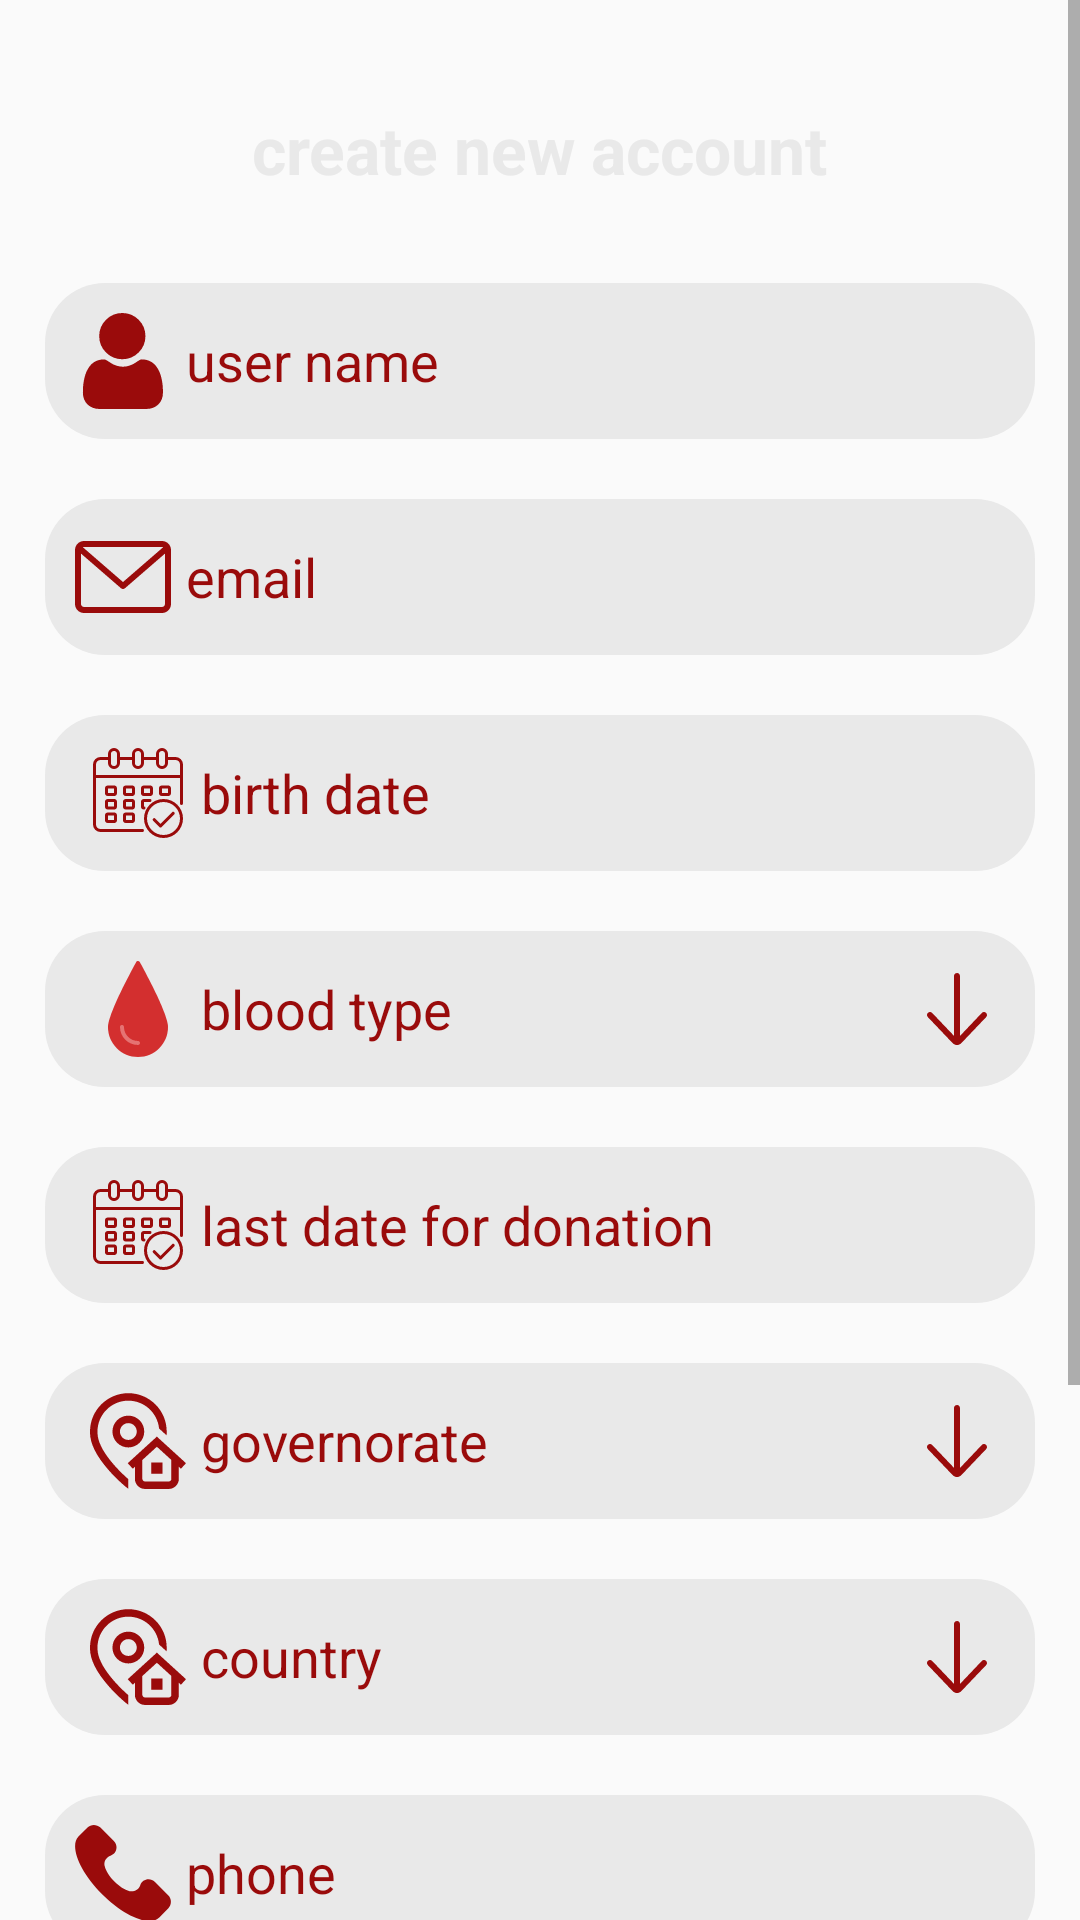

Icon bounding boxes for this 1080px x 1920px phone screenshot, format bbox=[x1, y1, x2, y2]:
calendar: bbox=[93, 748, 183, 838], bbox=[93, 1180, 183, 1270]
governate: bbox=[90, 1393, 186, 1489], bbox=[90, 1609, 186, 1705]
